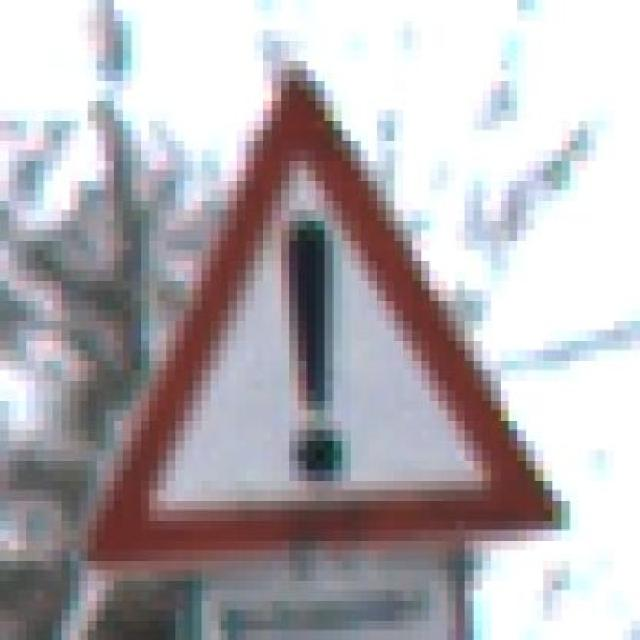Attention Please-: (61, 59, 578, 590)
